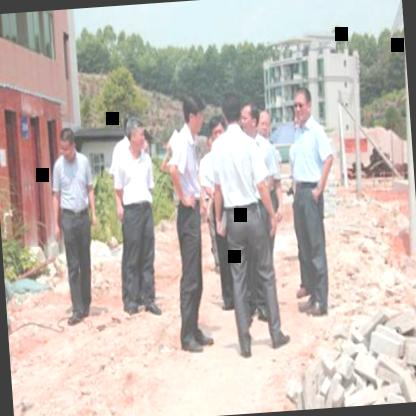head: (121, 108, 148, 154), (180, 90, 206, 137), (219, 87, 244, 131), (232, 98, 260, 136), (289, 85, 314, 123), (58, 124, 78, 164), (258, 104, 276, 142), (209, 114, 229, 147)
